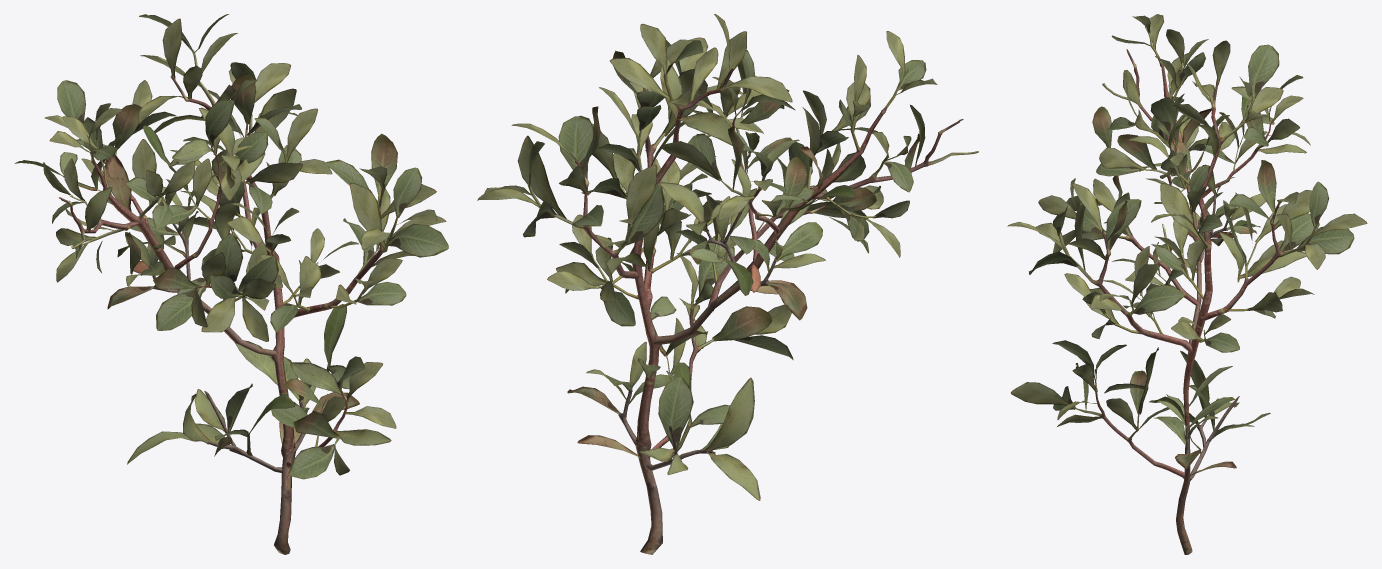
The picture shows the model from 3 angles, left to right: view 1: azimuth 30°, elevation 25°; view 2: azimuth 150°, elevation 25°; view 3: azimuth 270°, elevation 25°; orthographic projection. The views are drawn at different scales.
Parts seen in each view (by area): view 1: PolyHaven_shrub04_branch04; view 2: PolyHaven_shrub04_branch04; view 3: PolyHaven_shrub04_branch04.
Part boxes in pixels (left/top/right/bottom): PolyHaven_shrub04_branch04: left=14, top=14, right=448, bottom=554; PolyHaven_shrub04_branch04: left=477, top=14, right=978, bottom=554; PolyHaven_shrub04_branch04: left=1007, top=14, right=1367, bottom=554.
Size of the model in its own units: 1.24 by 1.71 by 1.17.
1 material, 1 textured.
